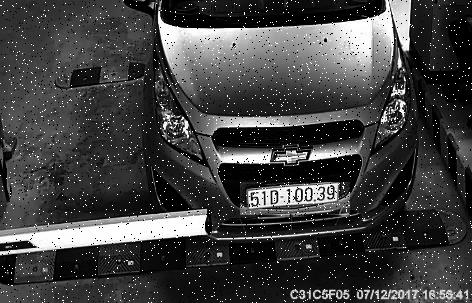License-plate: (241, 184, 351, 218)
